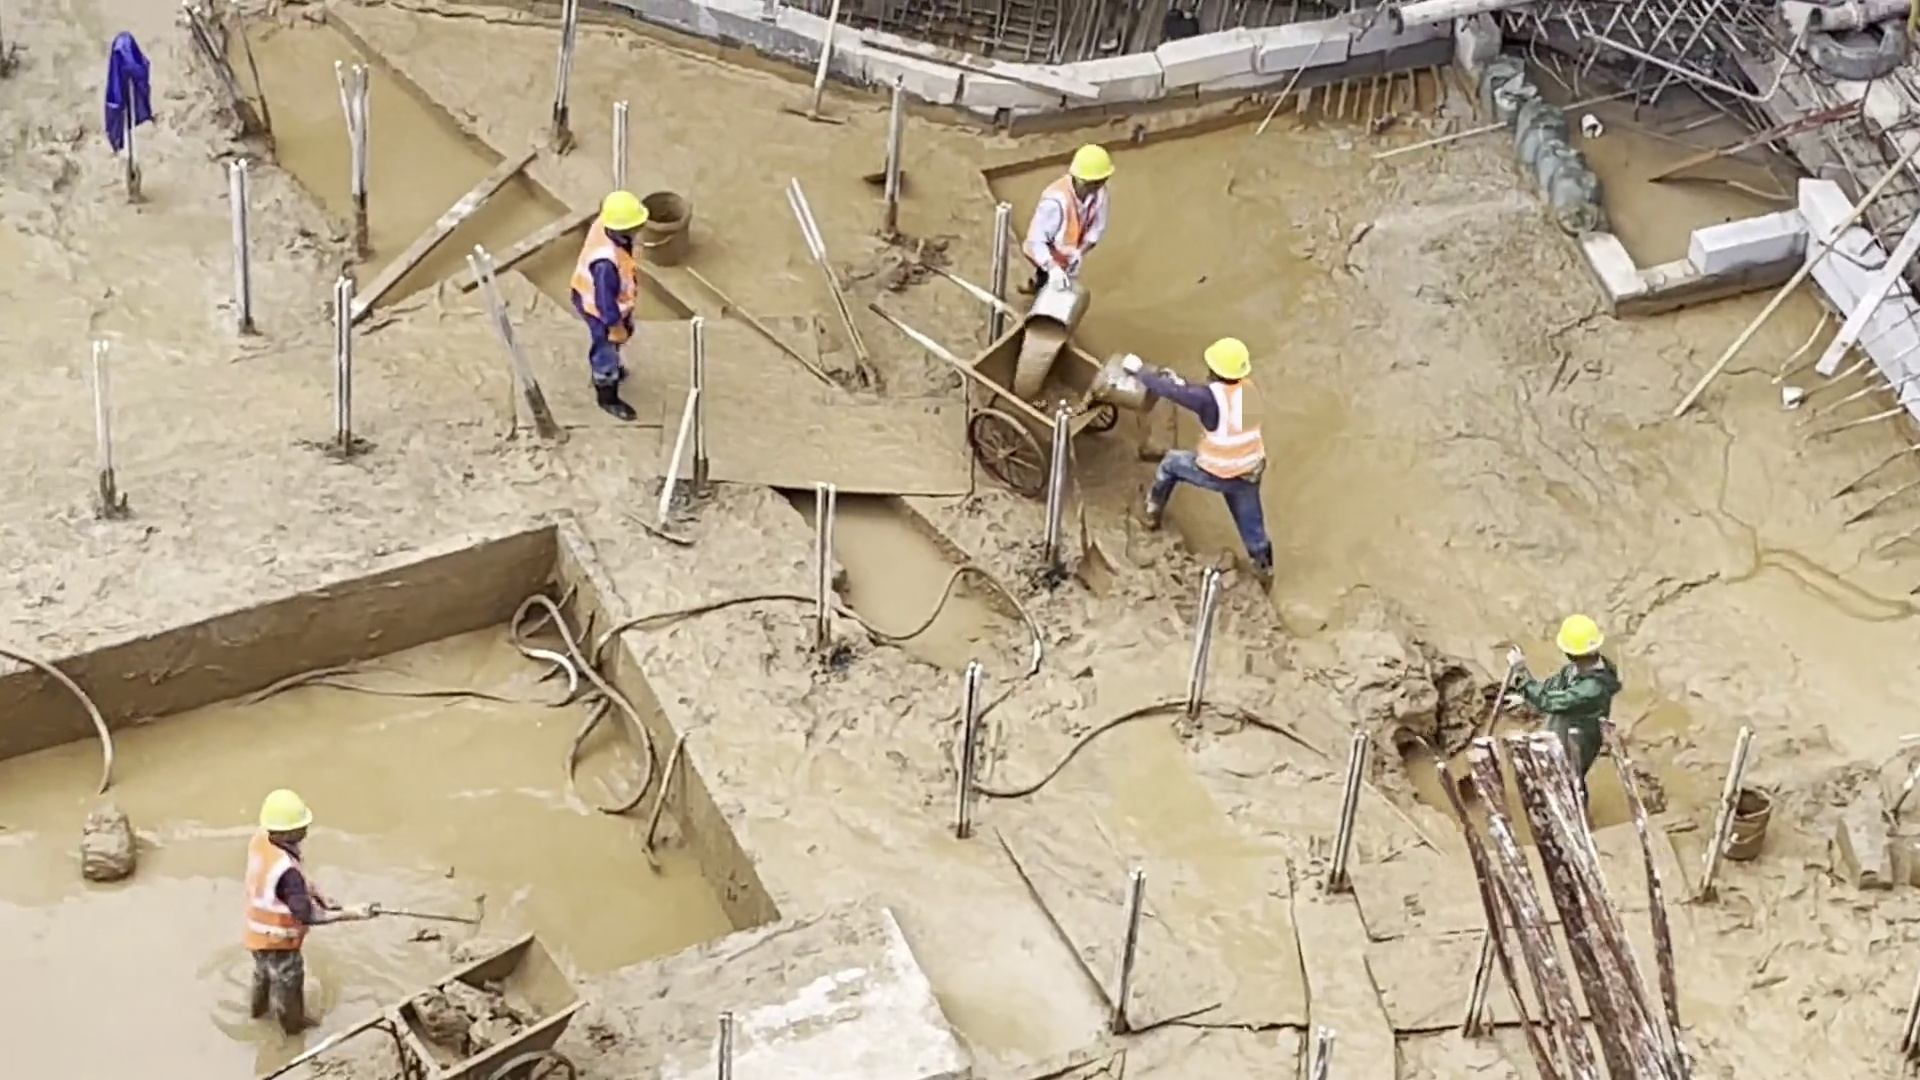handcart: (868, 263, 1115, 486), (261, 928, 589, 1080)
helmet: (259, 788, 315, 835), (1553, 614, 1607, 659), (1202, 335, 1254, 381), (600, 191, 649, 233), (1065, 142, 1113, 181)
person: (1118, 334, 1278, 574), (238, 786, 335, 1036), (1511, 605, 1620, 783), (568, 190, 648, 423), (1020, 141, 1115, 297)
vest: (248, 830, 314, 952), (1025, 176, 1107, 269), (569, 218, 639, 323), (1202, 383, 1266, 485)
